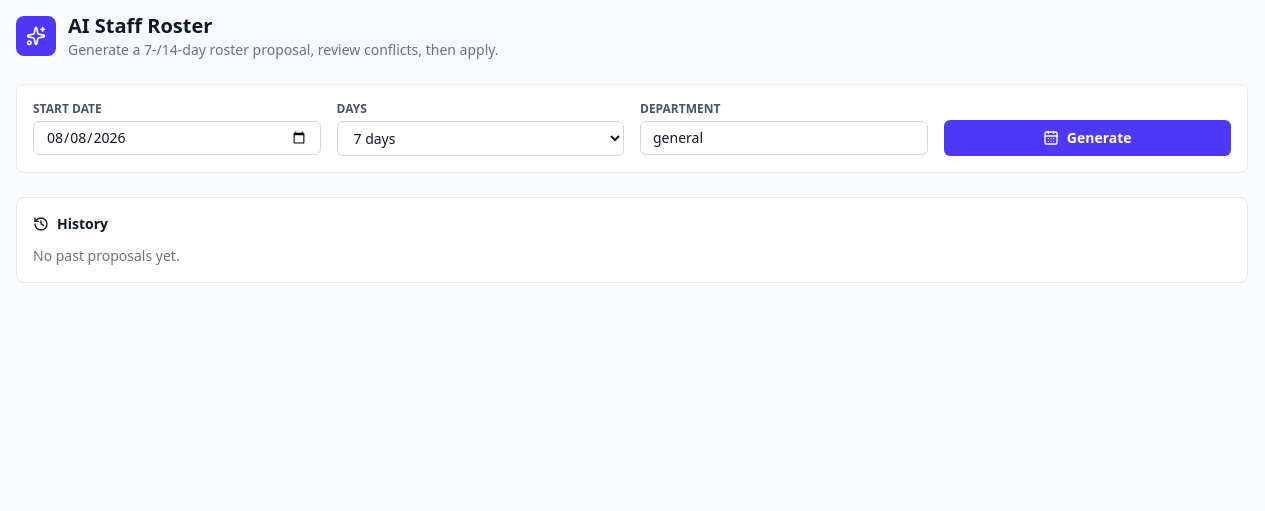
Test: AIRosterPage › renders the proposal review block when propose succeeds
Click the button "Generate" at (1087, 138), box [944, 120, 1231, 156]
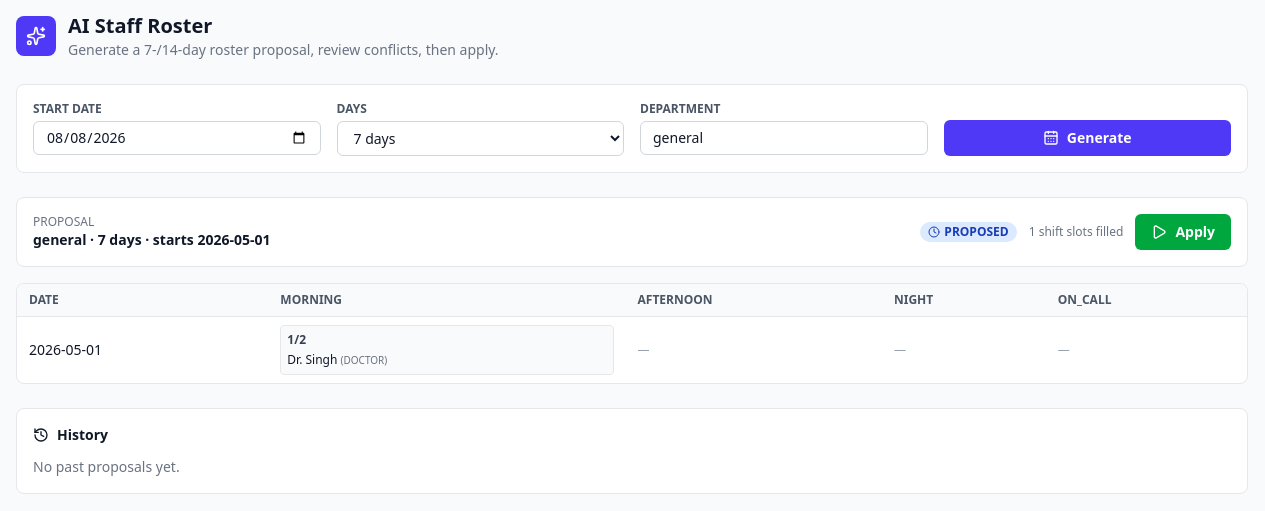
Result: the list item "Dr. Singh (DOCTOR)" is shown at [287, 351, 387, 368]
